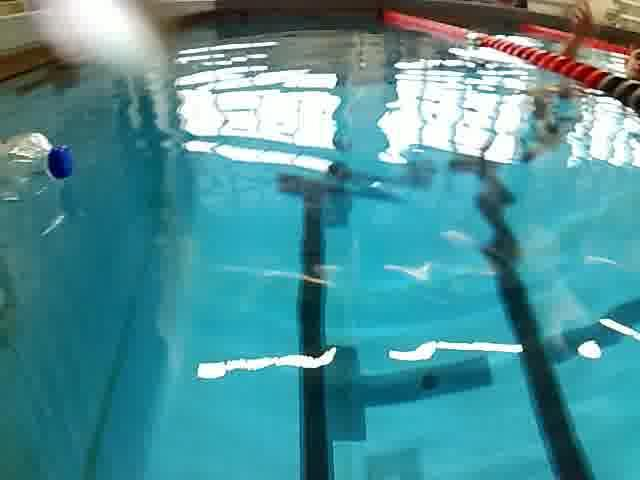Bottle: (0, 123, 72, 198)
